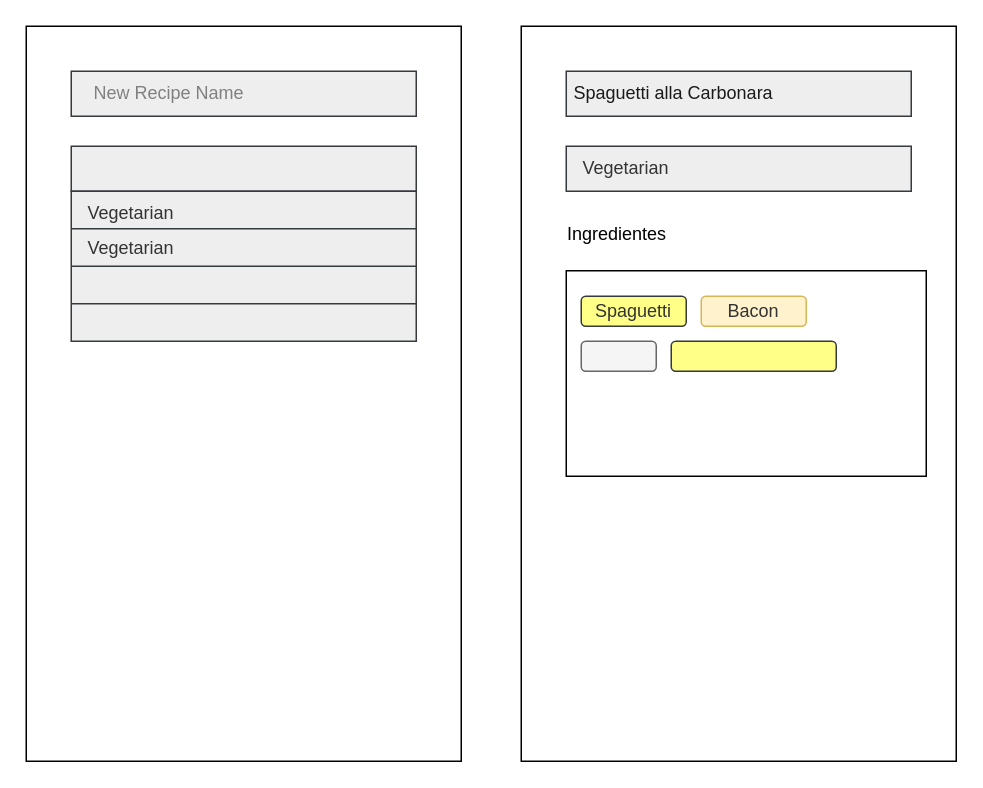
Image size: 983x788. Some labels were removed from this diagram. Here are the shapes that lost their labels. From the top down, the centre of each, then its label:
At point (618, 355): "Ovo".
At point (753, 355): "Pimenta do Reino".
